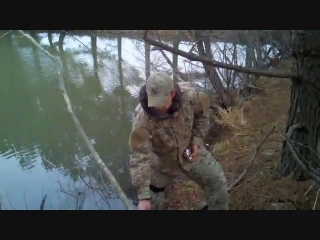person: (130, 71, 233, 208)
